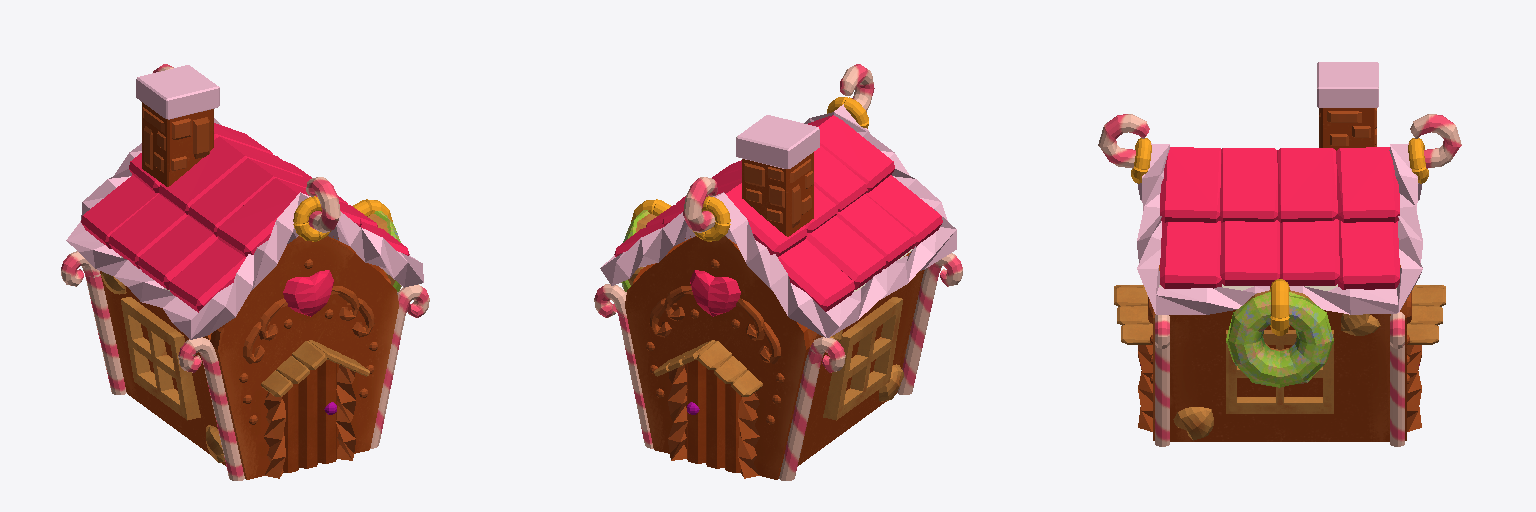
3 renders of one model, left to right at view 1: azimuth 30°, elevation 25°; view 2: azimuth 150°, elevation 25°; view 3: azimuth 270°, elevation 25°, orthographic.
Parts seen in each view (by area): view 1: box_Mesh.001, lid_Mesh; view 2: box_Mesh.001, lid_Mesh; view 3: lid_Mesh, box_Mesh.001.
Boxes of the visible parts, box(x1,y1,x2,y2) form: box_Mesh.001: box(61, 236, 429, 480); lid_Mesh: box(66, 64, 423, 339); box_Mesh.001: box(594, 236, 962, 480); lid_Mesh: box(600, 64, 956, 337); lid_Mesh: box(1098, 62, 1461, 387); box_Mesh.001: box(1114, 285, 1445, 446).
Bounding box in the file's own units: 0.0579 × 0.0653 × 0.0672.
Materials: 1 (1 with a texture image).